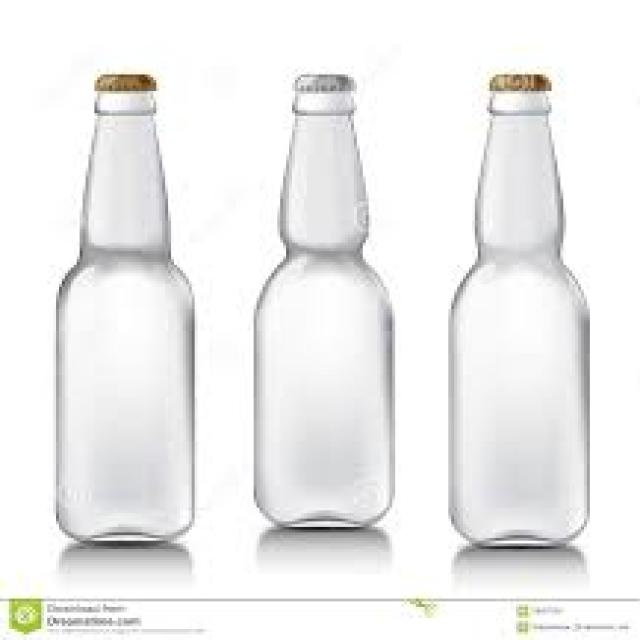glass: (442, 83, 590, 543), (251, 88, 395, 524), (56, 86, 192, 541)
metal: (487, 72, 546, 91), (292, 72, 351, 91), (89, 72, 151, 88)
